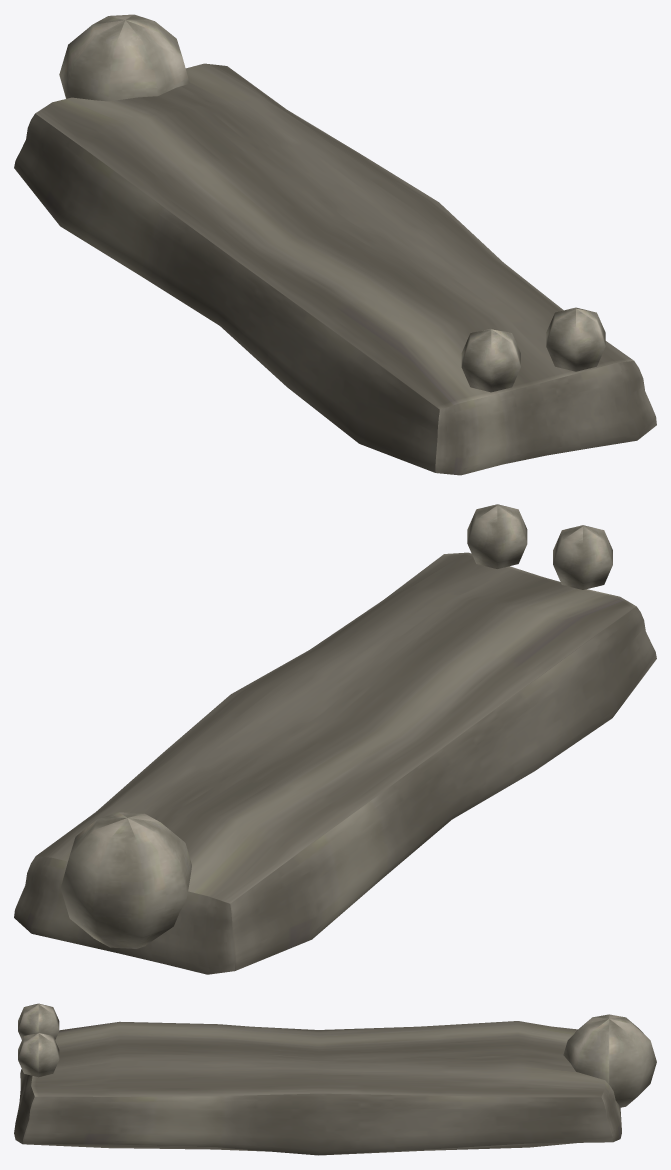
Rendered from body_sheet.glb.
The picture shows the model from 3 angles, top to bottom: view 1: azimuth 30°, elevation 25°; view 2: azimuth 150°, elevation 25°; view 3: azimuth 270°, elevation 25°; orthographic projection. The views are drawn at different scales.
Parts seen in each view (by area): view 1: body_sheet; view 2: body_sheet; view 3: body_sheet.
Part boxes in pixels (bbox=[...]): body_sheet: bbox=[14, 14, 656, 475]; body_sheet: bbox=[14, 504, 656, 974]; body_sheet: bbox=[14, 1003, 656, 1155].
Bounding box in the file's own units: 0.6013 × 0.3451 × 1.88.
Materials: 1 (1 with a texture image).
